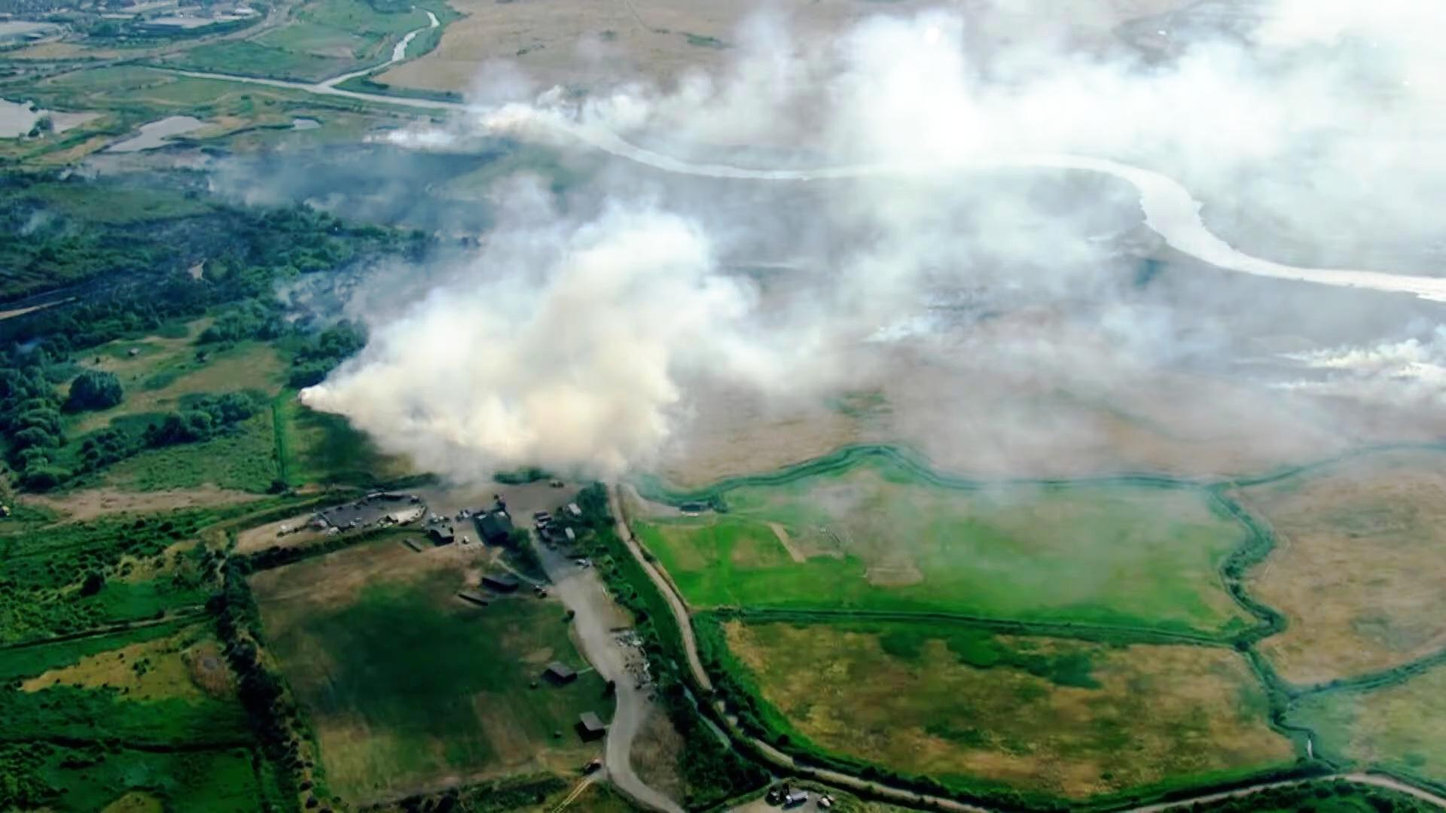smoke: (361, 279, 671, 457)
